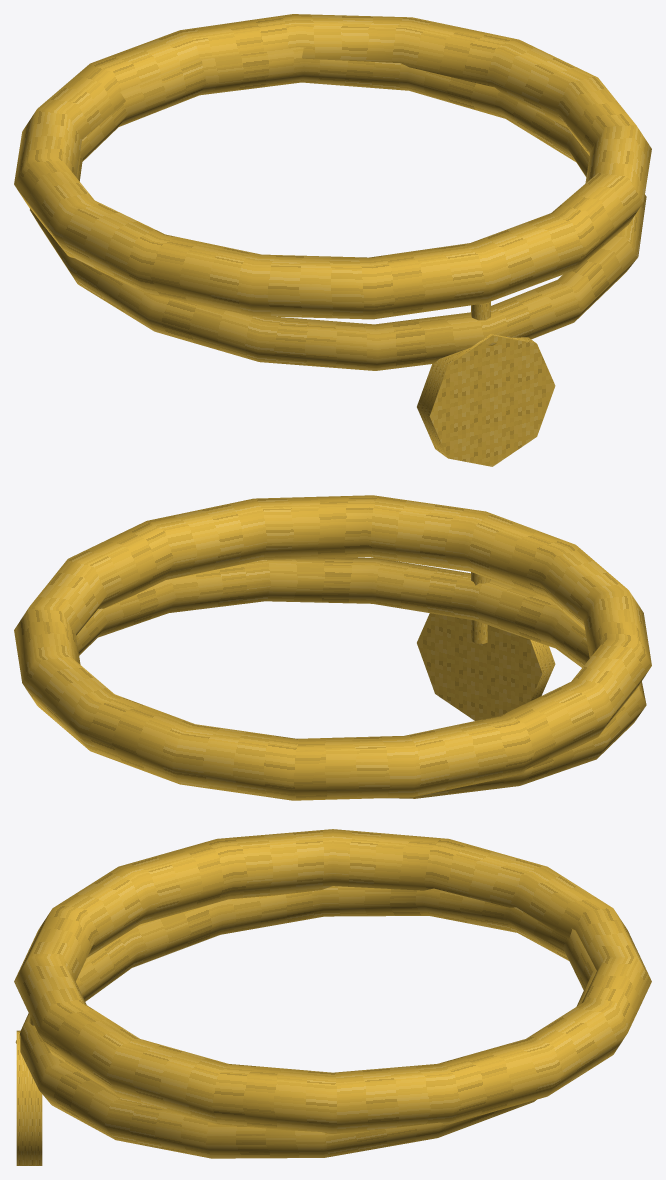
File: cadena_de_oro.glb
The picture shows the model from 3 angles, top to bottom: view 1: azimuth 30°, elevation 25°; view 2: azimuth 150°, elevation 25°; view 3: azimuth 270°, elevation 25°; orthographic projection.
Visible parts, largest first — view 1: _MeshInstance3D_202, _MeshInstance3D_203, _MeshInstance3D_205; view 2: _MeshInstance3D_202, _MeshInstance3D_203, _MeshInstance3D_205, _MeshInstance3D_204; view 3: _MeshInstance3D_202, _MeshInstance3D_203, _MeshInstance3D_205.
Part boxes in pixels (x1,y1,x2,y2): _MeshInstance3D_202: (14,14,651,319); _MeshInstance3D_203: (30,47,646,370); _MeshInstance3D_205: (417,334,555,466); _MeshInstance3D_202: (14,495,651,800); _MeshInstance3D_203: (76,557,646,798); _MeshInstance3D_205: (417,613,555,720); _MeshInstance3D_204: (471,572,490,643); _MeshInstance3D_202: (14,829,651,1133); _MeshInstance3D_203: (15,886,596,1158); _MeshInstance3D_205: (16,1030,42,1165).
Size of the model in its own units: 0.248 by 0.0884 by 0.248.
Materials: 2 (2 with a texture image).
